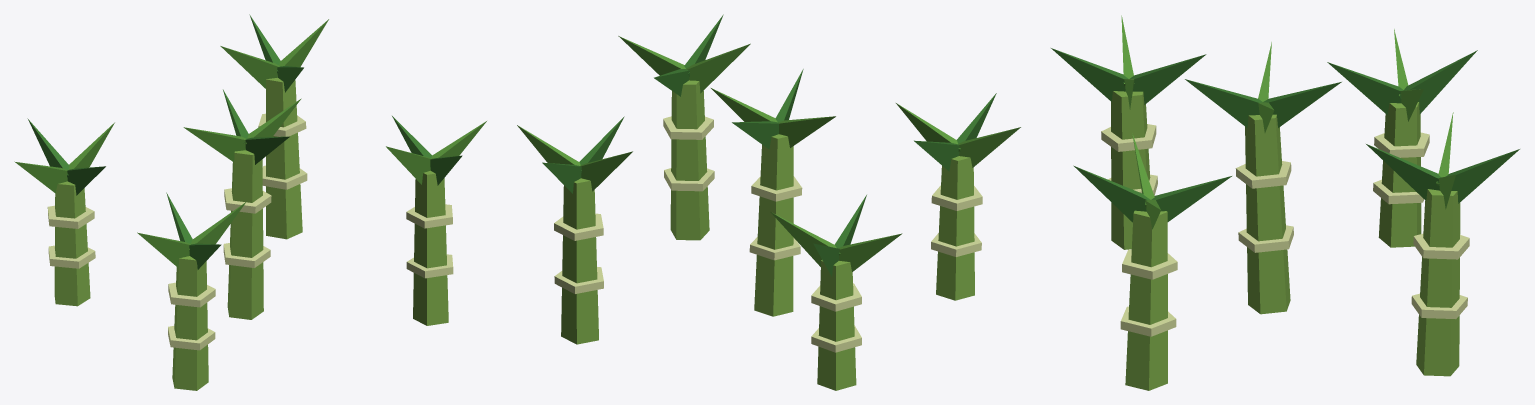
The model's file is bamboo-2.glb.
The picture shows the model from 3 angles, left to right: view 1: azimuth 30°, elevation 25°; view 2: azimuth 150°, elevation 25°; view 3: azimuth 270°, elevation 25°; orthographic projection. The views are drawn at different scales.
Visible parts, largest first — view 1: bamboo-2; view 2: bamboo-2; view 3: bamboo-2.
Part boxes in pixels (box(x1,y1,x2,y2)): bamboo-2: box(14, 14, 486, 390); bamboo-2: box(517, 14, 1020, 390); bamboo-2: box(1051, 15, 1519, 390).
Size of the model in its own units: 0.6575 by 0.3389 by 0.6218.
1 material, 1 textured.
